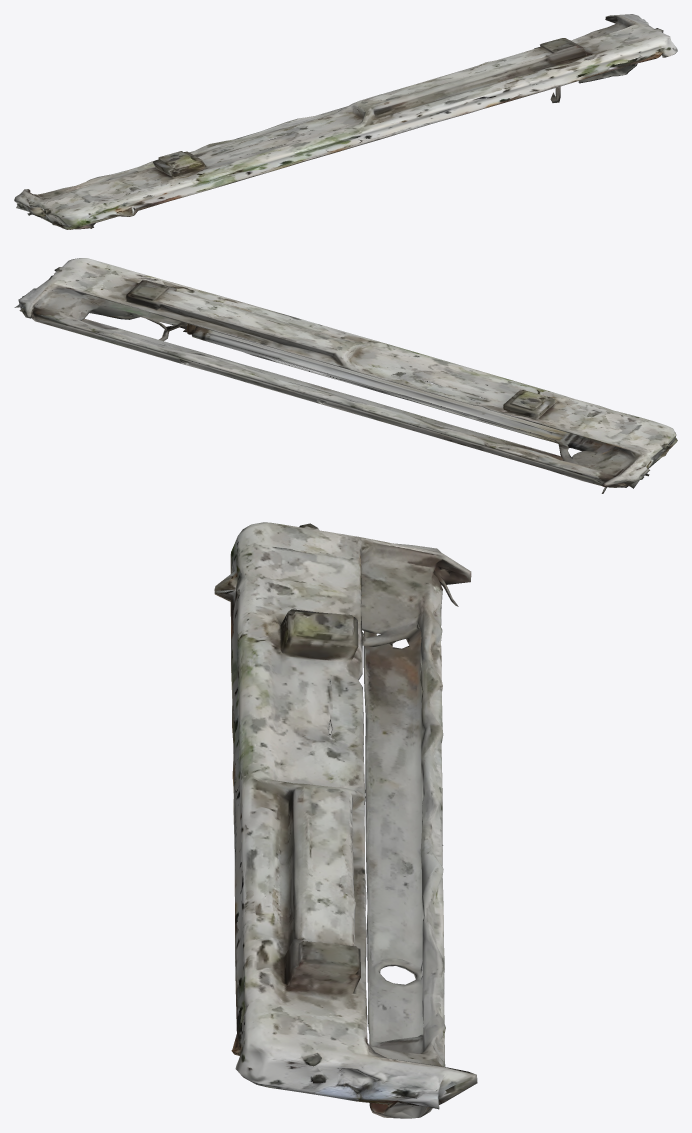
File: level-xw0-light.glb
3 views of the same model, one above another, from view 1: azimuth 30°, elevation 25°; view 2: azimuth 150°, elevation 25°; view 3: azimuth 270°, elevation 25° (orthographic). The views are drawn at different scales.
Parts seen in each view (by area): view 1: tripo_node_b7e993cc-d3e5-4da6-9582-9a2e8f30ca5e; view 2: tripo_node_b7e993cc-d3e5-4da6-9582-9a2e8f30ca5e; view 3: tripo_node_b7e993cc-d3e5-4da6-9582-9a2e8f30ca5e.
Boxes of the visible parts, bbox=[...] form: tripo_node_b7e993cc-d3e5-4da6-9582-9a2e8f30ca5e: bbox=[14, 14, 677, 229]; tripo_node_b7e993cc-d3e5-4da6-9582-9a2e8f30ca5e: bbox=[14, 258, 677, 493]; tripo_node_b7e993cc-d3e5-4da6-9582-9a2e8f30ca5e: bbox=[214, 522, 477, 1118].
Size of the model in its own units: 1.2 by 0.12 by 0.22.
Materials: 1 (1 with a texture image).
